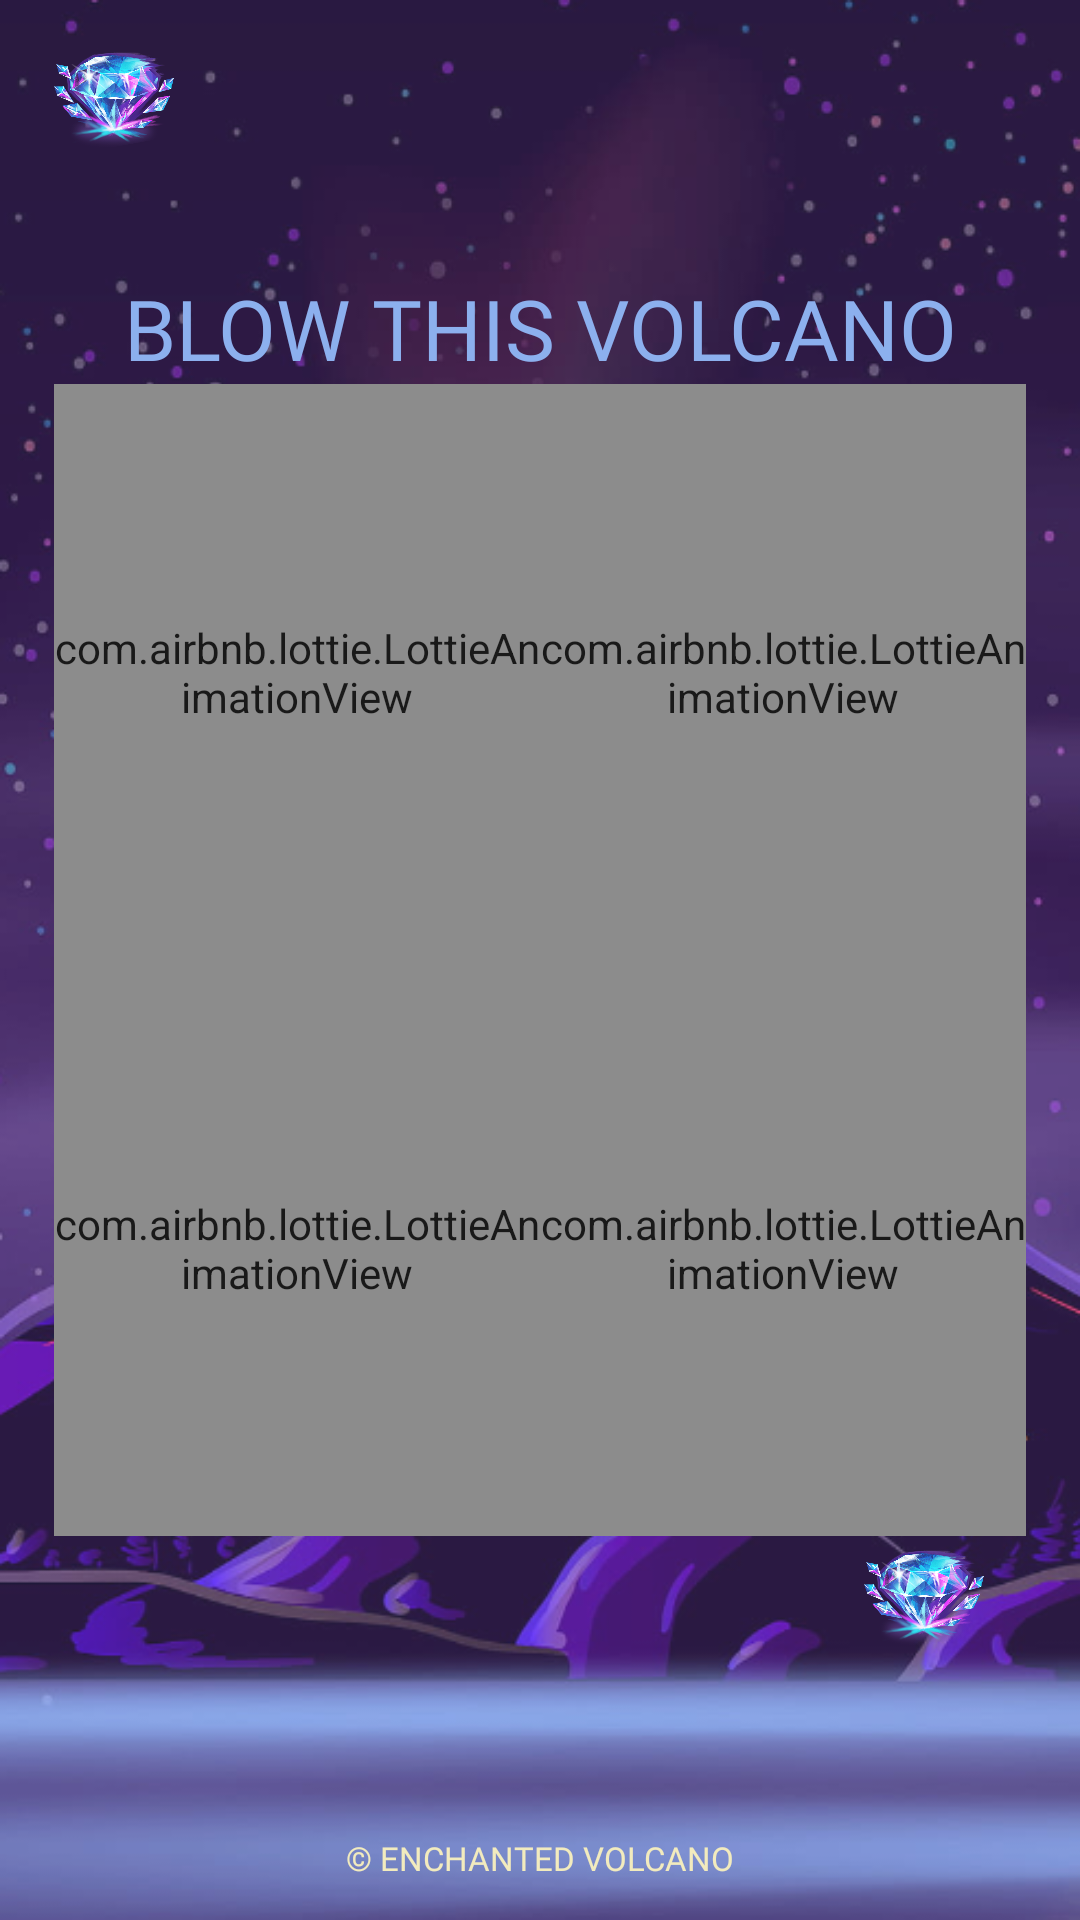

Icon click points for this 1080px x 1920px phone screenshot, format point (x, y):
saphire: point (114, 97), point (924, 1596)
